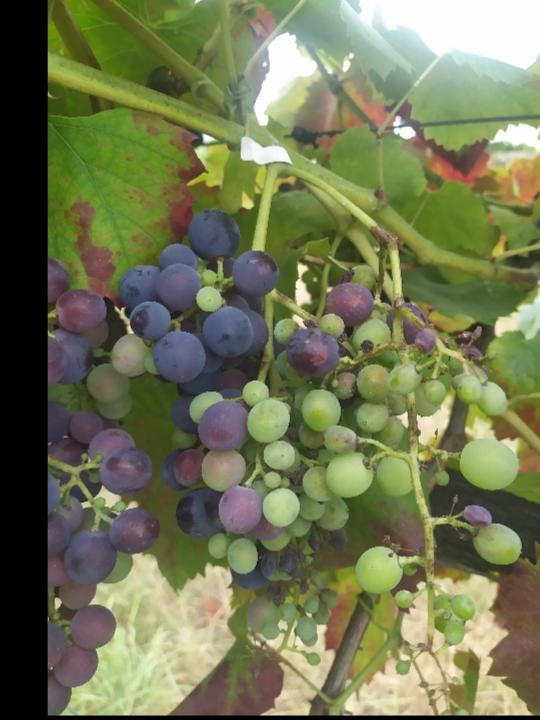grape: (114, 203, 355, 611), (325, 258, 527, 679)
